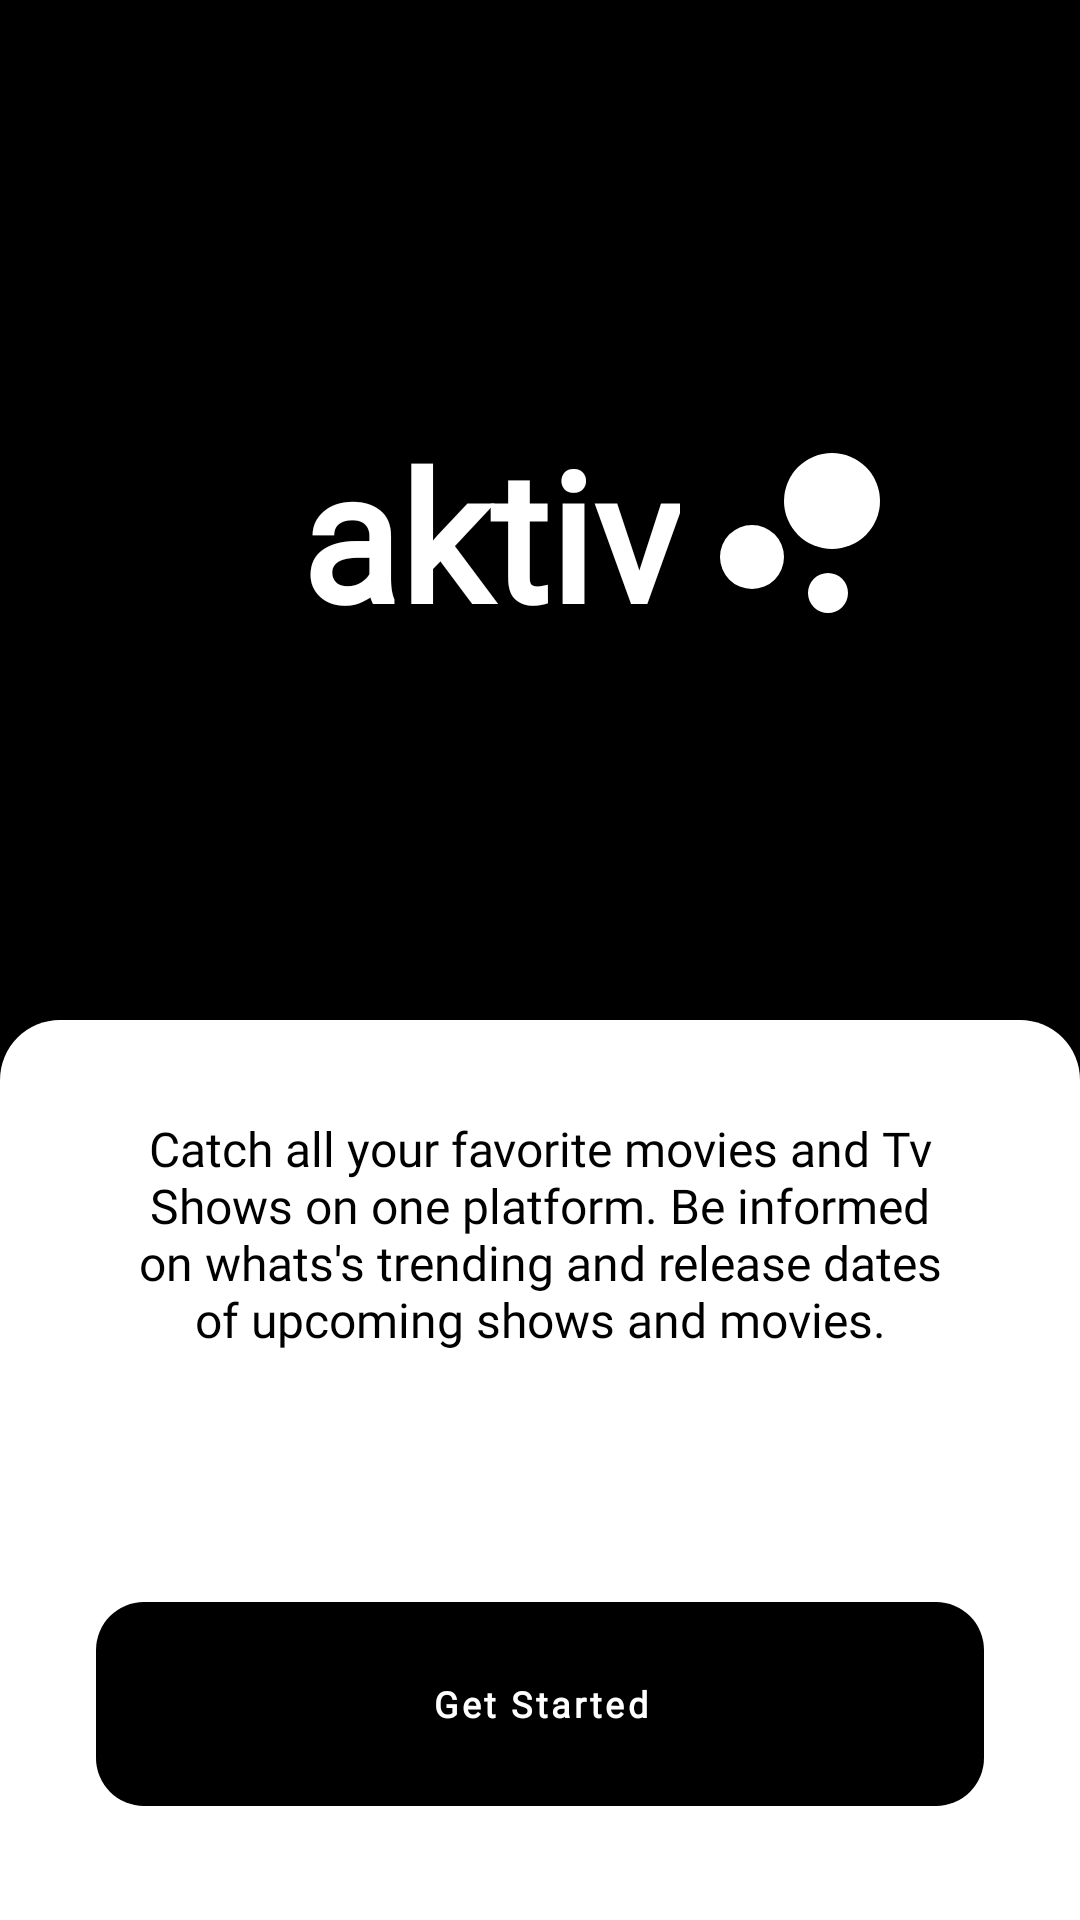

Named icons in this screenshot (1080x1920) and their bounding boxes, [left=x1, top=y1, right=x2, bottom=y2]:
bubble chart: [left=720, top=453, right=880, bottom=613]
